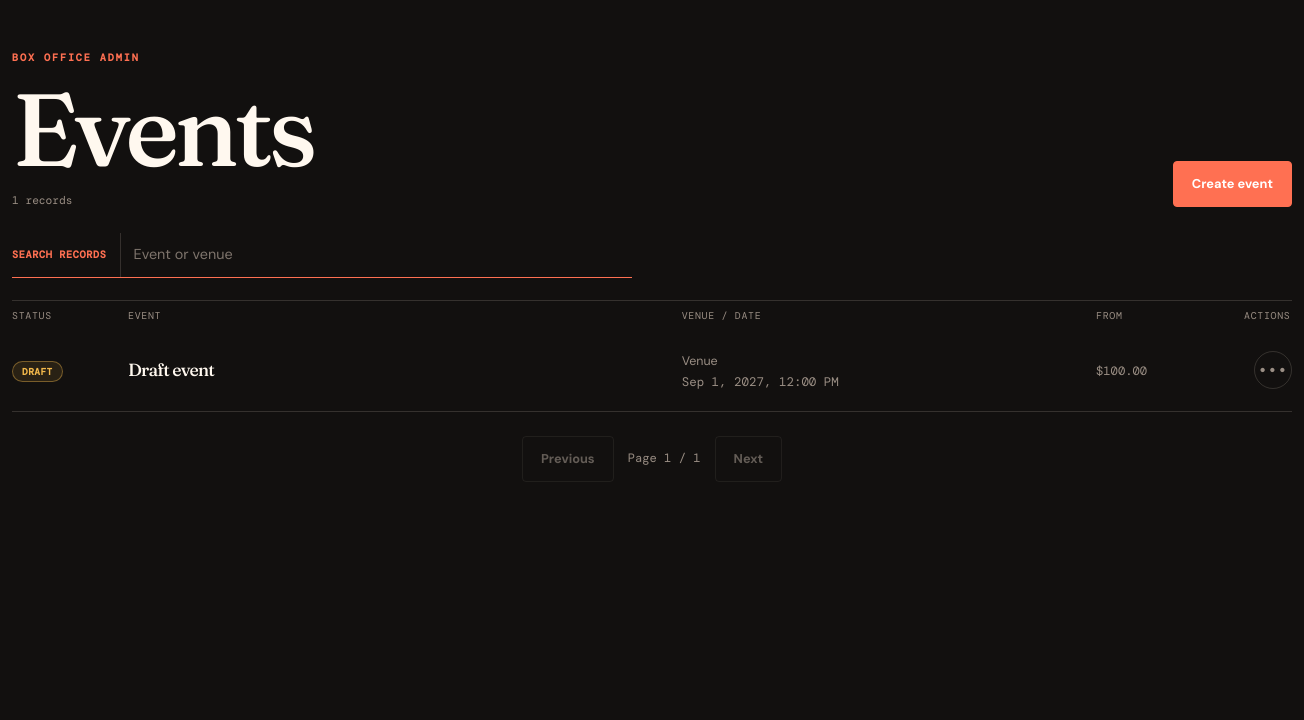
Test: AdminEventsPage › shows the valid action matrix for Draft
This screenshot has width=1304, height=720.
Expected: the heading "Draft event" is shown, [128,359,214,380]
Click the button named "Actions for Draft event" at (1273, 370), box [1254,351,1292,389]
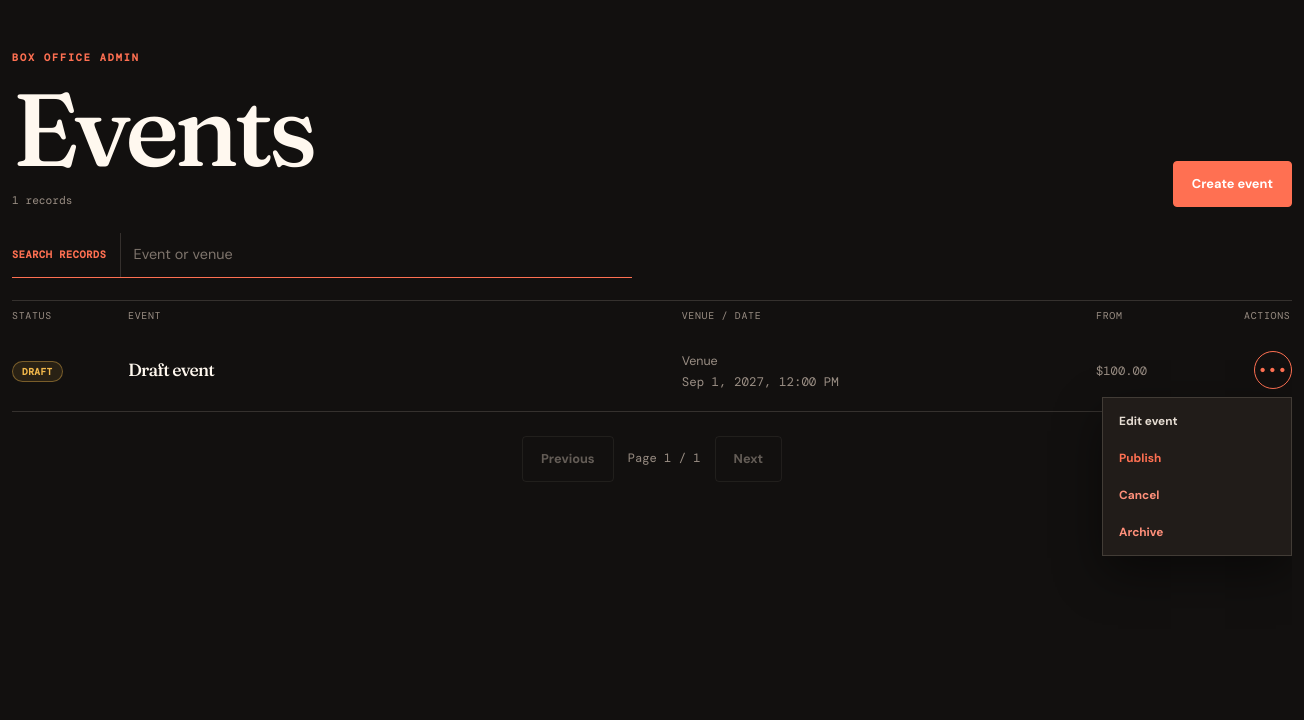
Result: the button named "Actions for Draft event" is expanded at [1254,351,1292,389]
Result: the menu item "Edit event" is shown at [1119,413,1178,429]
Result: the menu item "Publish" is shown at [1109,441,1285,475]
